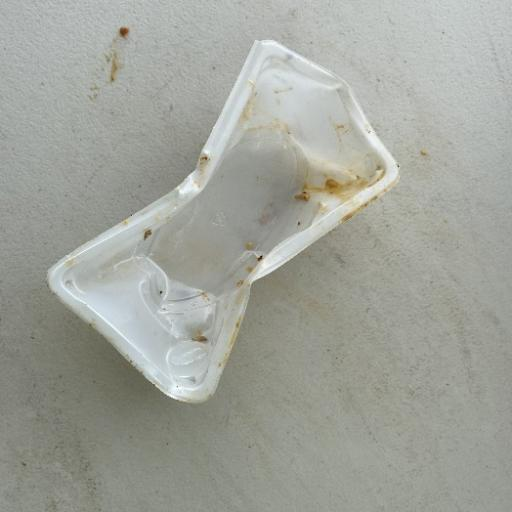Plastic: (44, 37, 402, 405)
